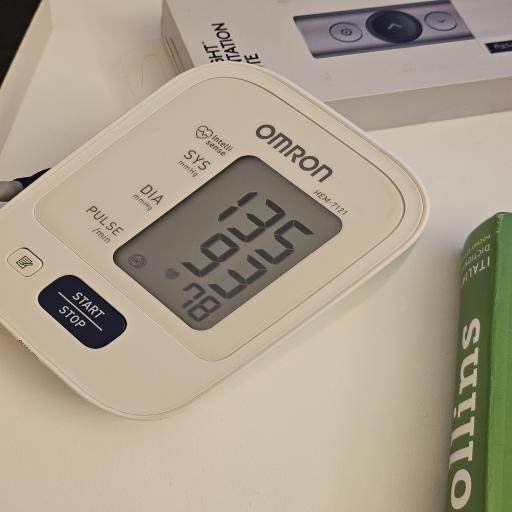blood pressure monitor: (0, 58, 432, 420)
